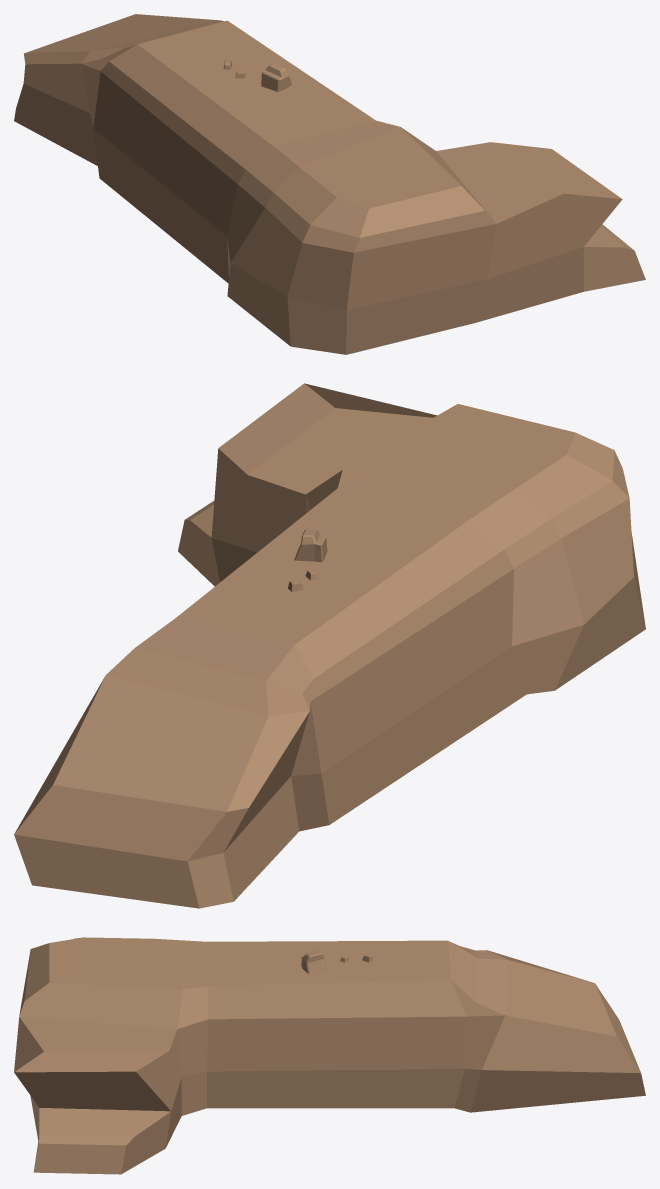
File: small_rock_2.fbx
3 views of the same model, one above another, from view 1: azimuth 30°, elevation 25°; view 2: azimuth 150°, elevation 25°; view 3: azimuth 270°, elevation 25° (orthographic). The views are drawn at different scales.
Visible parts, largest first — view 1: 1; view 2: 1; view 3: 1.
Boxes of the visible parts, bbox=[...] form: 1: bbox=[14, 14, 645, 354]; 1: bbox=[14, 383, 645, 908]; 1: bbox=[14, 937, 645, 1174].
Bounding box in the file's own units: 0.5562 × 0.2312 × 1.
